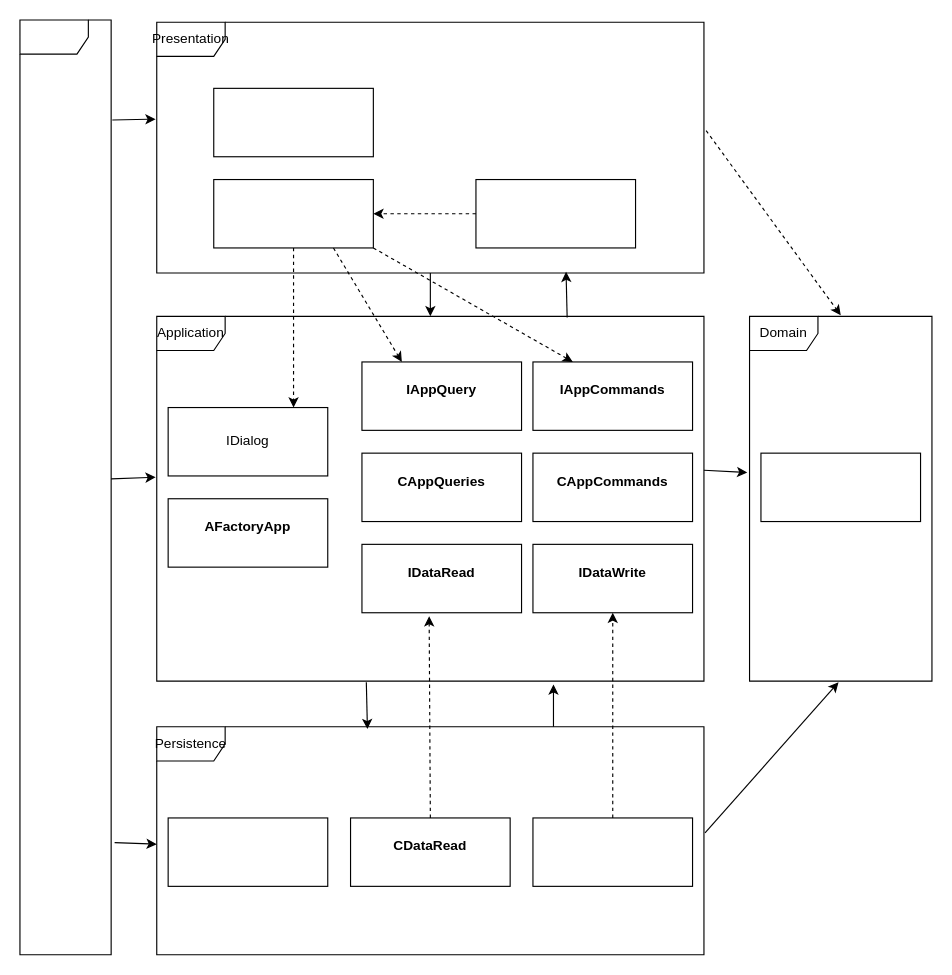
The diagram is 952 pixels wide and 975 high, and some of its shapes have lost their labels. Each missing label, with the centre of its shape:
AFactoryData: (247,851)
AFactoryDialog: (555,213)
Car: (840,487)
CDataWrite: (612,851)
CviMain: (293,213)
CvmMain: (293,122)
Start: (65,487)
